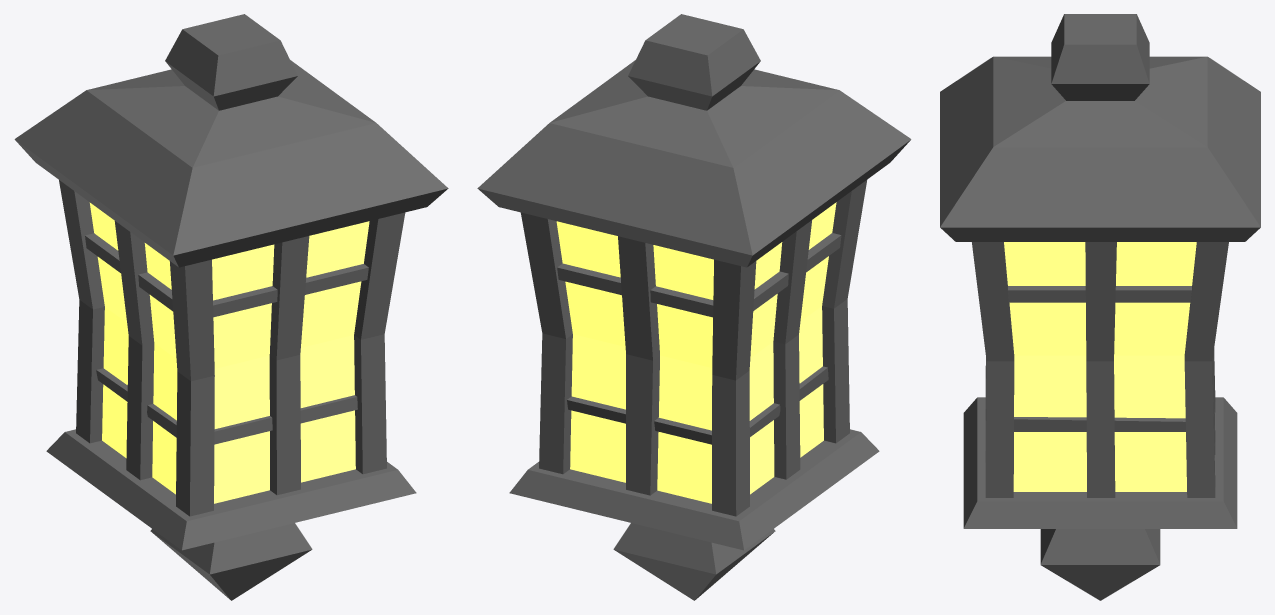
Rendered from Lantern.fbx.
3 views of the same model, side by side, from view 1: azimuth 30°, elevation 25°; view 2: azimuth 150°, elevation 25°; view 3: azimuth 270°, elevation 25° (orthographic).
Parts seen in each view (by area): view 1: Lantern; view 2: Lantern; view 3: Lantern.
Part boxes in pixels (left/top/right/bottom): Lantern: left=14, top=14, right=448, bottom=600; Lantern: left=477, top=14, right=911, bottom=600; Lantern: left=940, top=14, right=1260, bottom=600.
Size of the model in its own units: 0.6133 by 1.21 by 0.6133.
